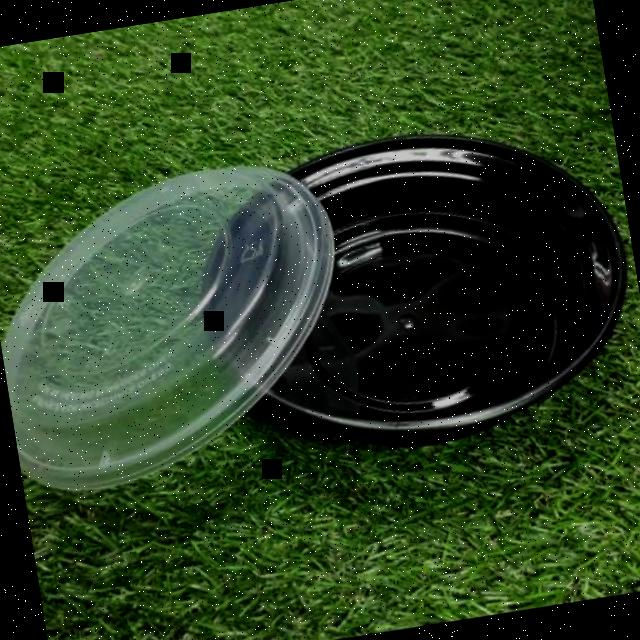plastic_box: (185, 106, 640, 478)
